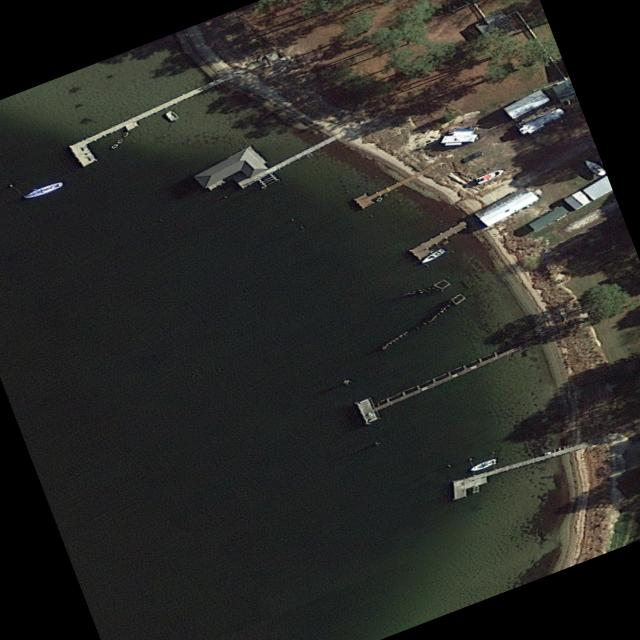ship: (23, 181, 63, 202), (473, 166, 507, 187), (417, 247, 449, 266), (579, 157, 606, 178), (466, 457, 499, 474), (161, 109, 182, 124)
small-vehicle: (456, 149, 486, 166)
